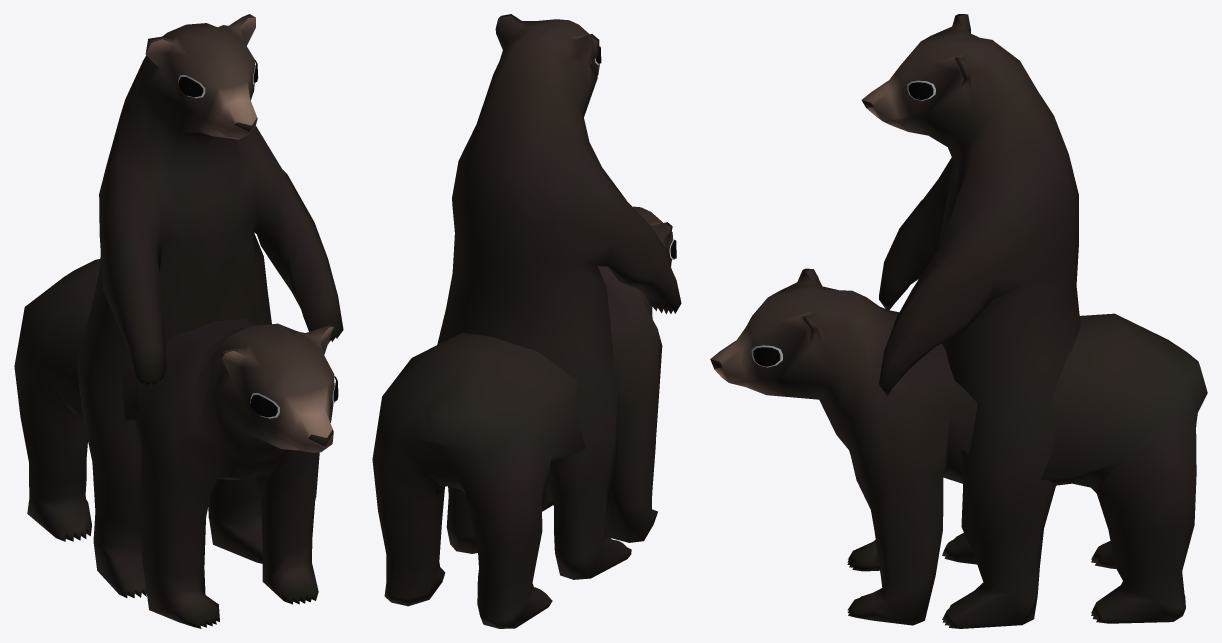
The model's file is bear.glb.
The picture shows the model from 3 angles, left to right: view 1: azimuth 30°, elevation 25°; view 2: azimuth 150°, elevation 25°; view 3: azimuth 270°, elevation 25°; orthographic projection. The views are drawn at different scales.
Parts seen in each view (by area): view 1: alt577; view 2: alt577; view 3: alt577.
Part boxes in pixels (box(x1,y1,x2,y2)): alt577: box(14, 14, 343, 628); alt577: box(372, 14, 681, 628); alt577: box(710, 14, 1207, 628).
Bounding box in the file's own units: 96.92 × 247 × 202.
